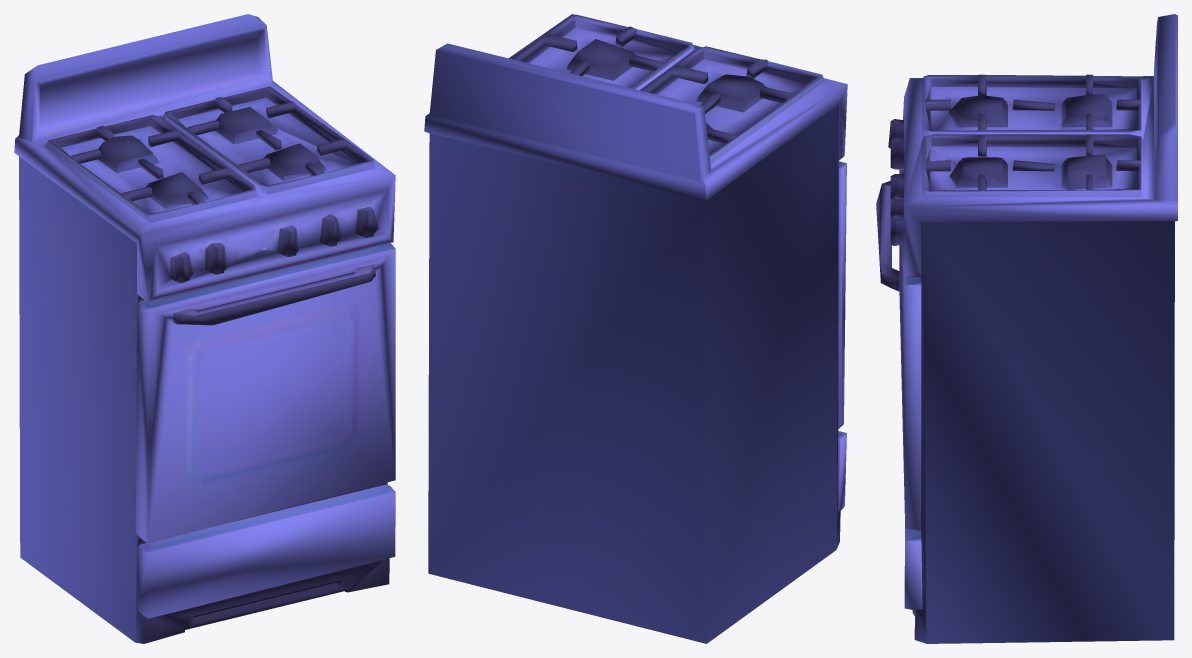
Rendered from model.progressive.glb.
3 renders of one model, left to right at view 1: azimuth 30°, elevation 25°; view 2: azimuth 150°, elevation 25°; view 3: azimuth 270°, elevation 25°, orthographic. The views are drawn at different scales.
Parts seen in each view (by area): view 1: mesh_input; view 2: mesh_input; view 3: mesh_input.
Boxes of the visible parts, x1,y1,x2,y2 form: mesh_input: (14, 14, 395, 643); mesh_input: (424, 14, 847, 643); mesh_input: (876, 14, 1177, 643).
Bounding box in the file's own units: 1.04 × 1.9 × 1.01.
1 material, 1 textured.
